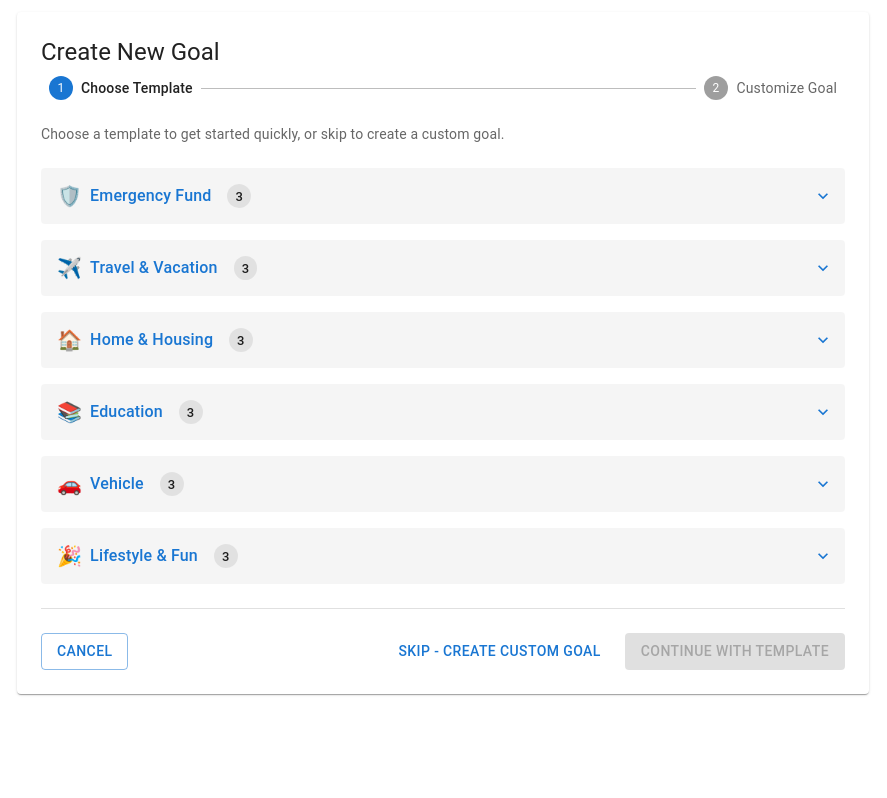
Test: GoalForm › with groups › shows group selection after skipping to form
Click the button "Skip - Create Custom Goal" at (500, 652), box [390,633,609,670]
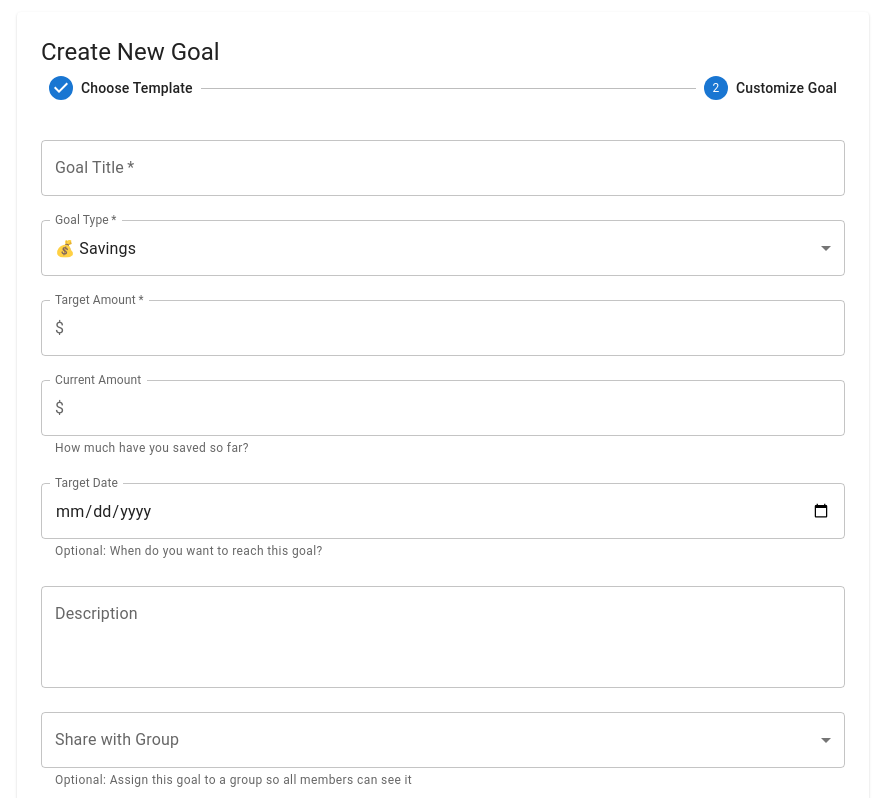
Expected: the field labelled "Goal Title *" is shown, [41,140,845,196]
Expected: the dropdown named "share with group" is shown, [41,712,845,768]
